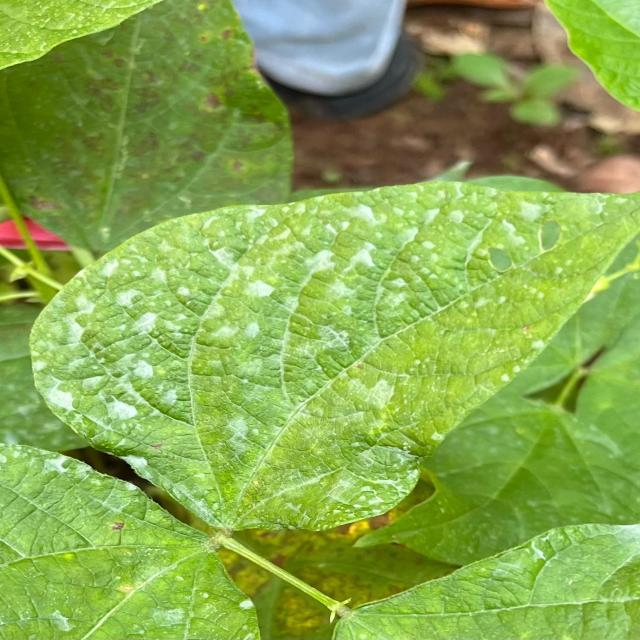embun tepung: (49, 206, 487, 480)
